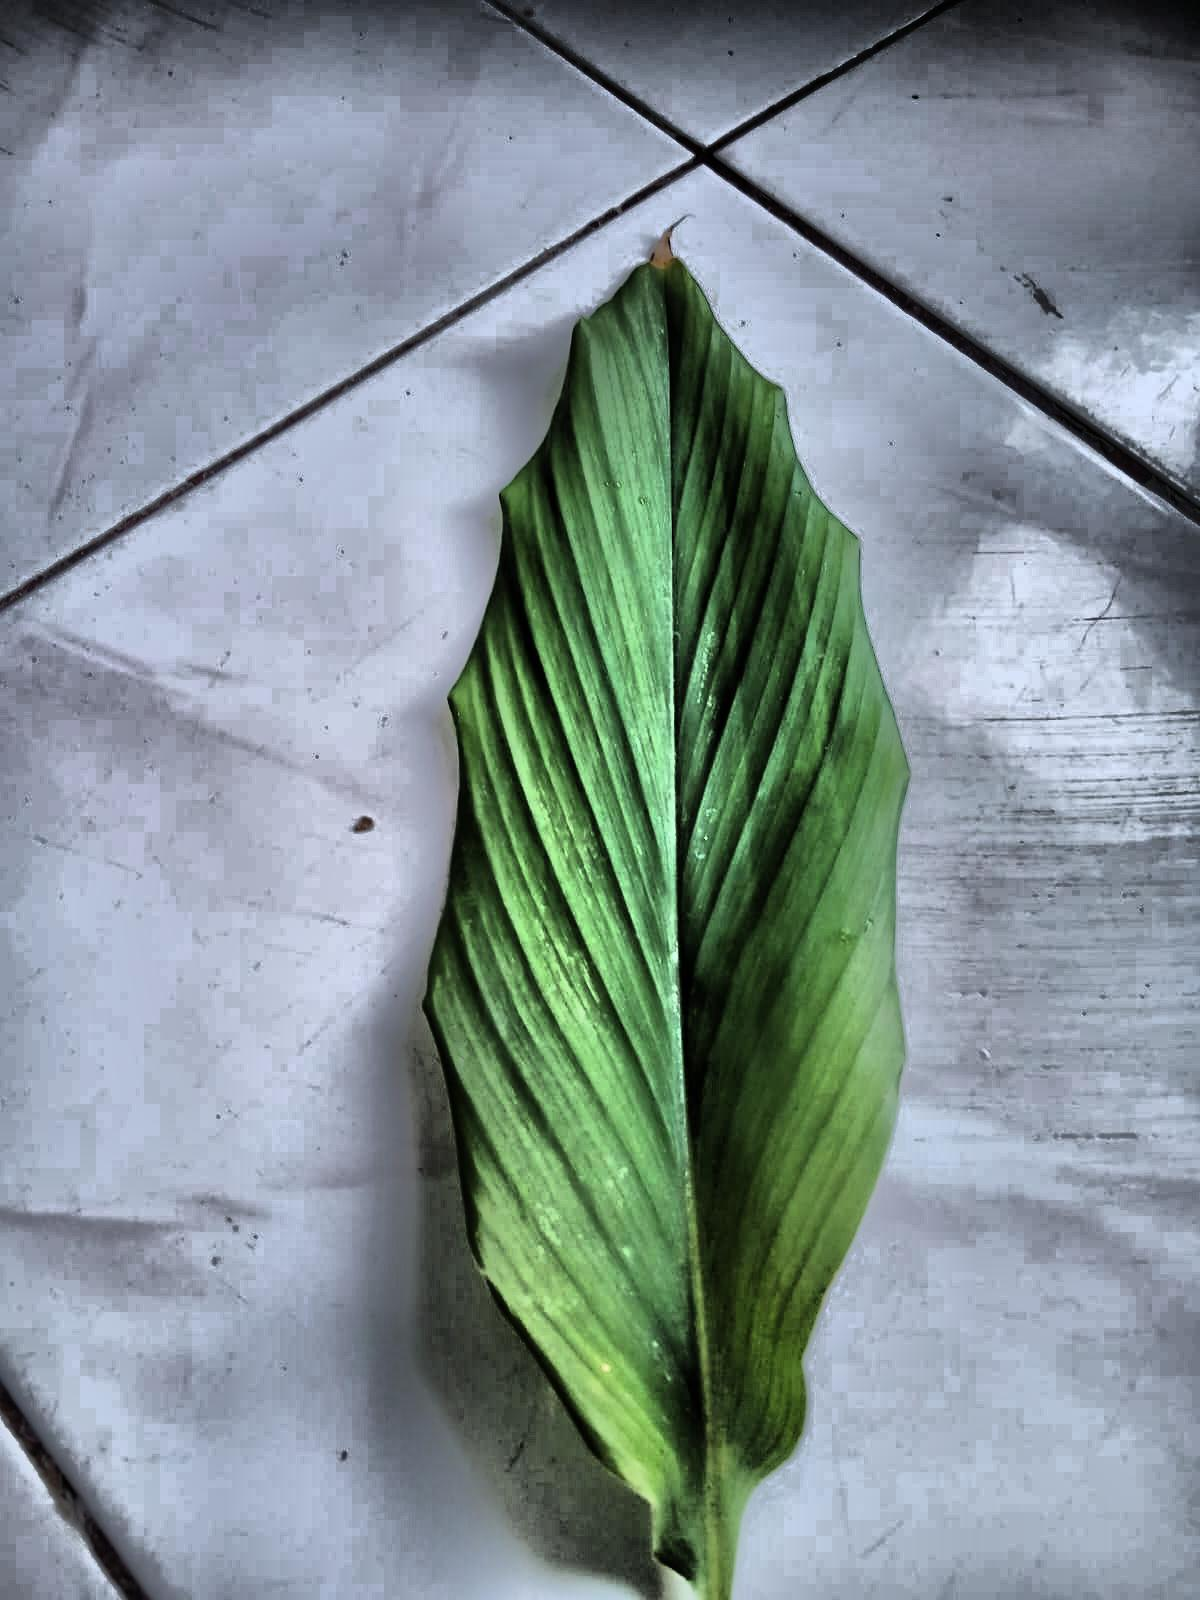daun kunyit: (426, 260, 908, 1599)
